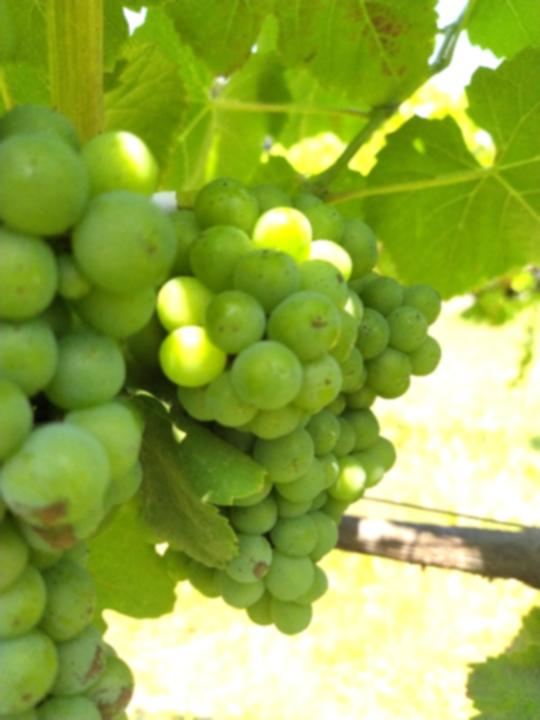grape: (166, 177, 445, 638)
